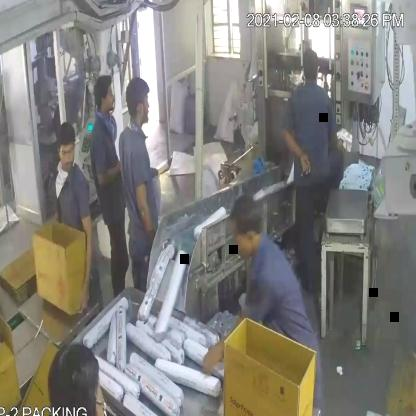no_glove: (195, 304, 245, 374), (81, 207, 98, 314), (280, 127, 310, 183), (133, 168, 153, 234)
